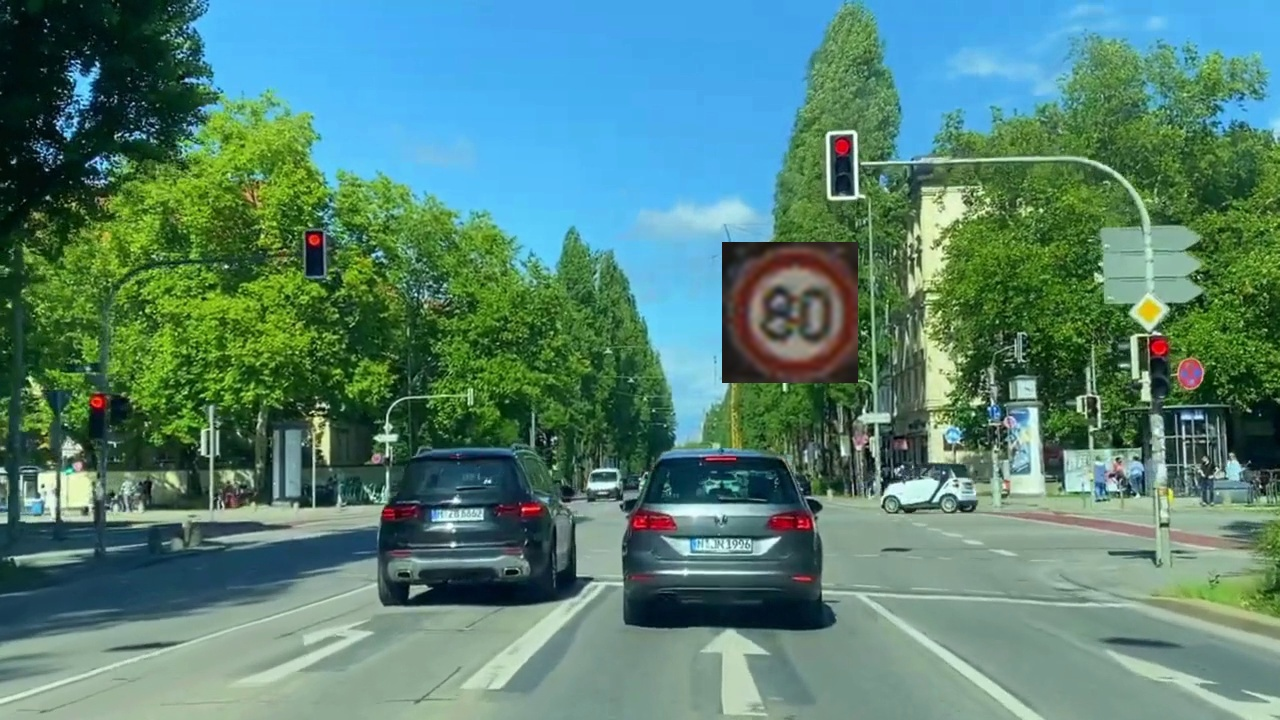Speed 80: (722, 242, 858, 383)
